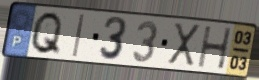3: (98, 15, 130, 62), (131, 19, 159, 65)
H: (196, 25, 234, 71)
I: (70, 13, 86, 59)
Q: (28, 10, 65, 57)
X: (166, 21, 202, 68)
